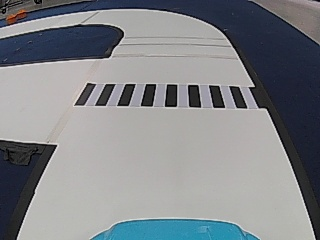CrossWalk: (72, 83, 262, 110)
